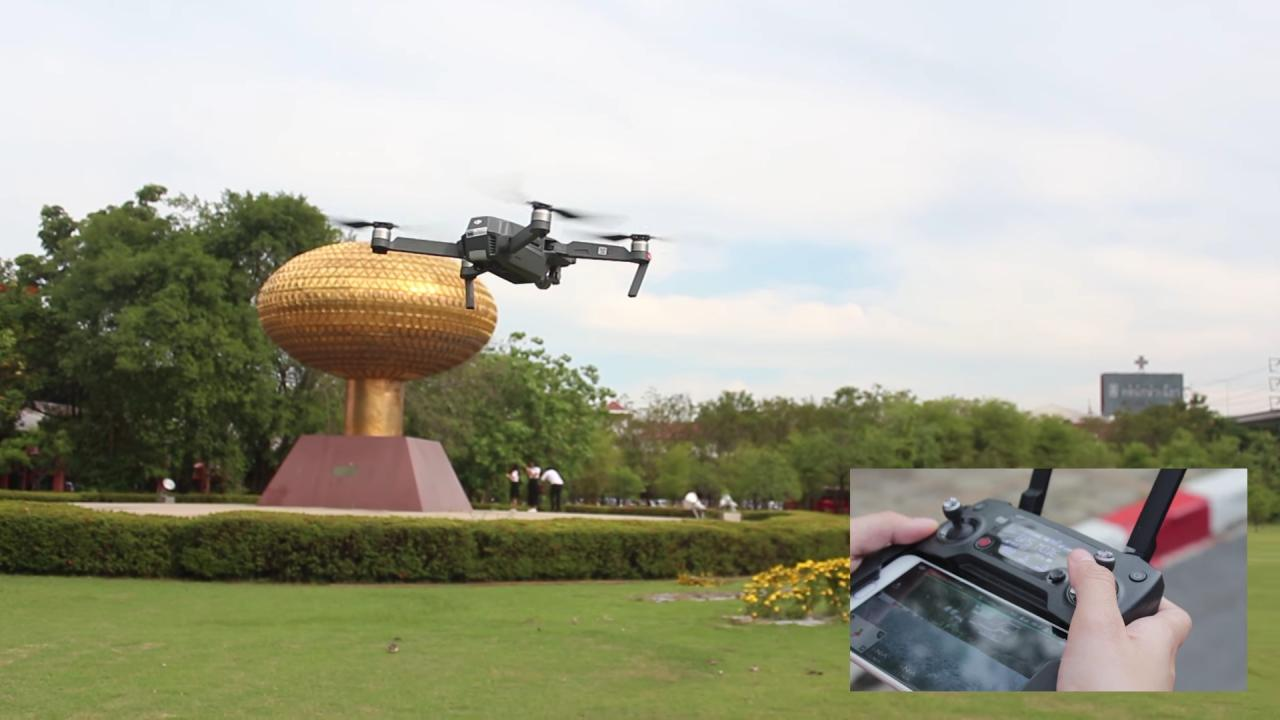Drone: (312, 168, 696, 319)
